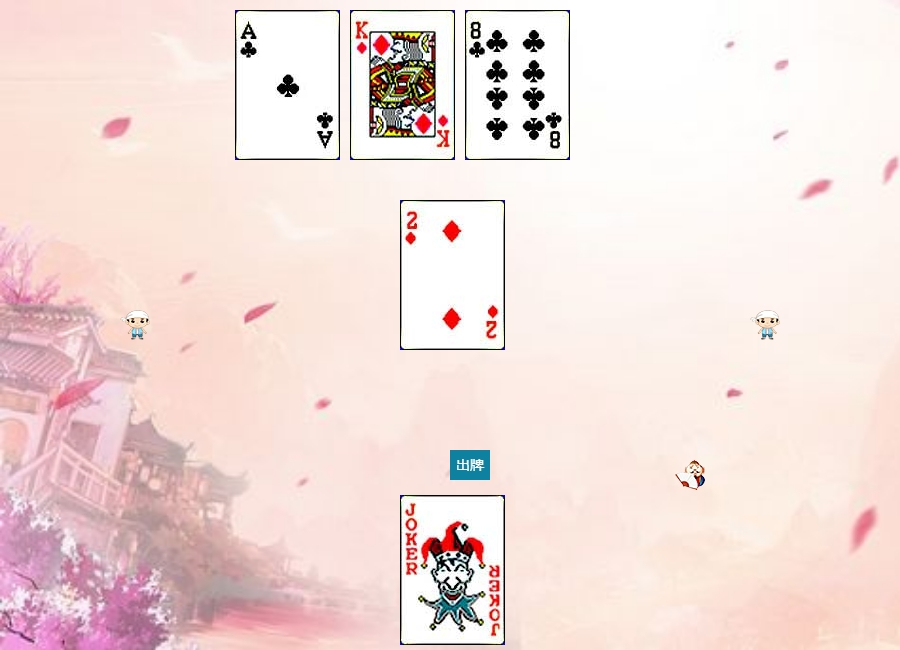13~1: (350, 10, 455, 160)
14~2: (235, 10, 340, 160)
15~1: (400, 200, 505, 350)
18~4: (400, 495, 505, 645)
8~2: (465, 10, 570, 160)
